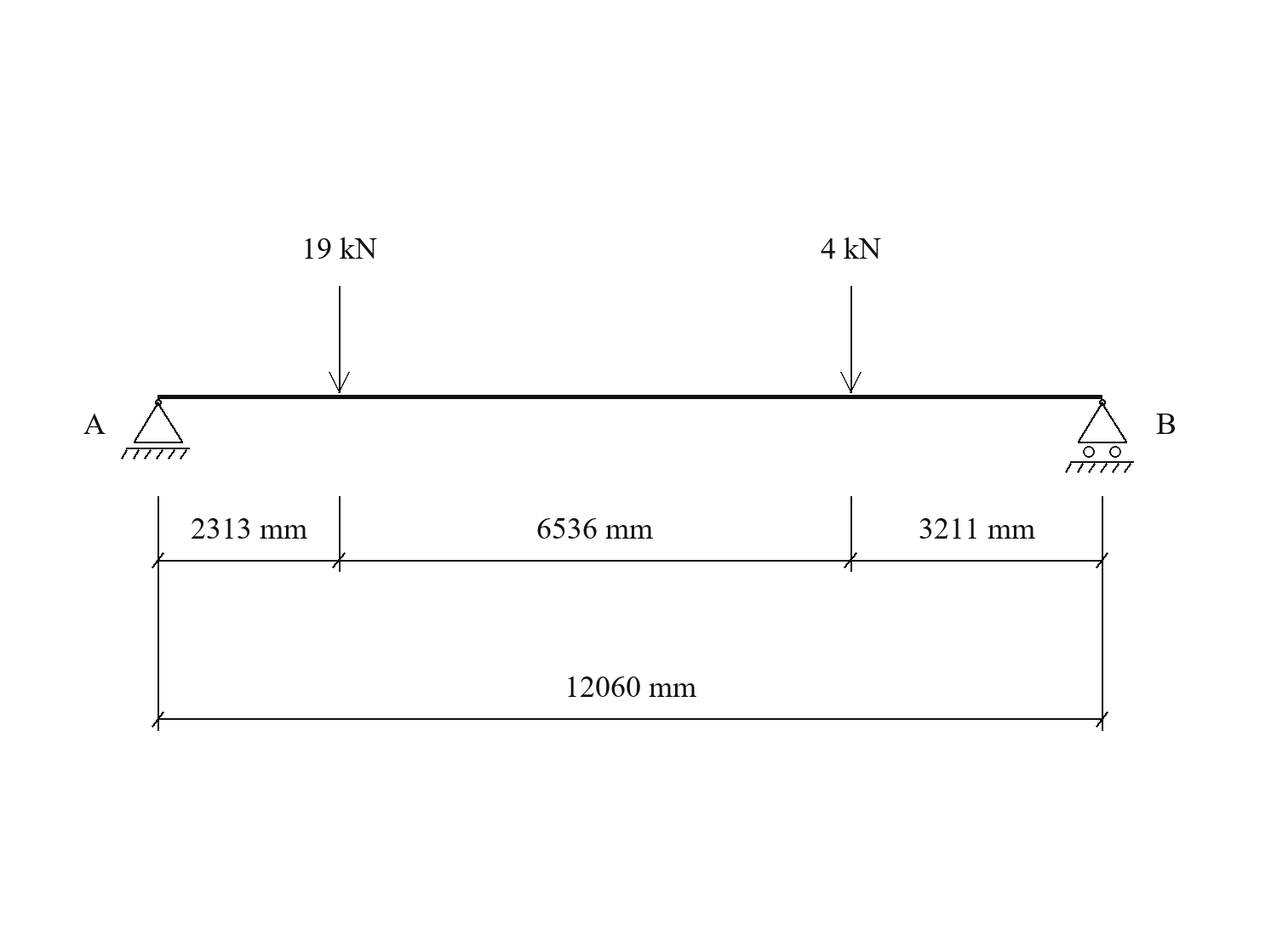pin_support: (121, 399, 190, 459)
point_load: (840, 286, 862, 393), (329, 286, 350, 393)
roller_support: (1065, 399, 1134, 473)
